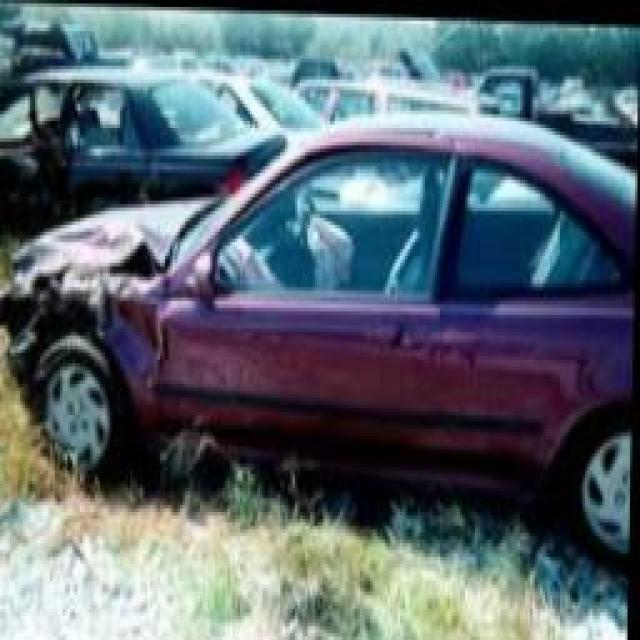Bonnet: (12, 190, 220, 293)
Fender: (18, 287, 170, 441)
